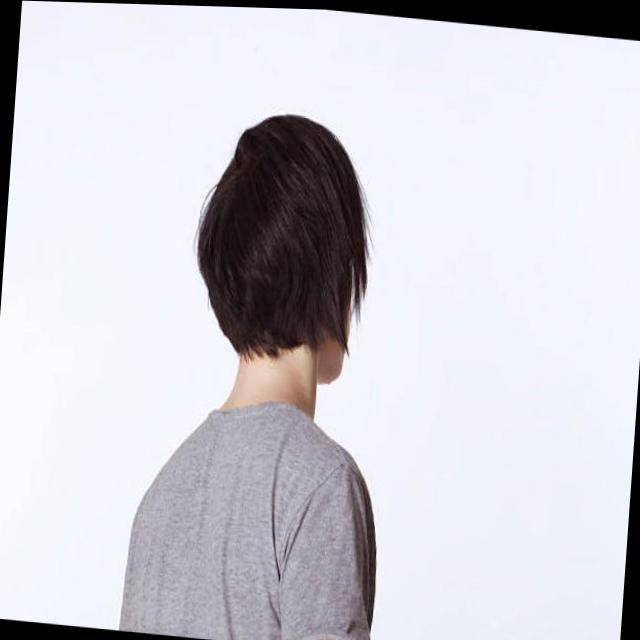no helmet: (186, 99, 366, 391)
